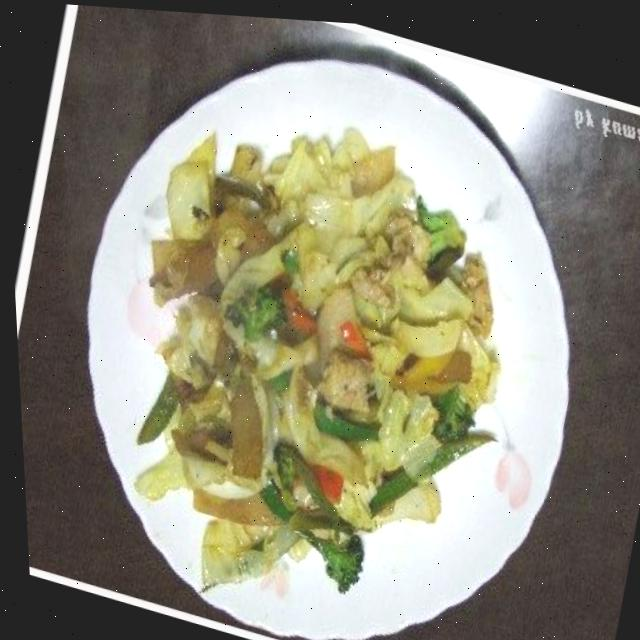蔬菜料理: (58, 69, 537, 640)
